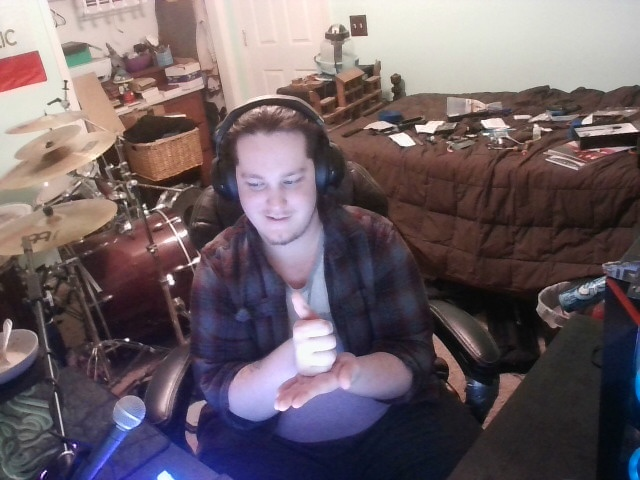help: (256, 280, 362, 420)
